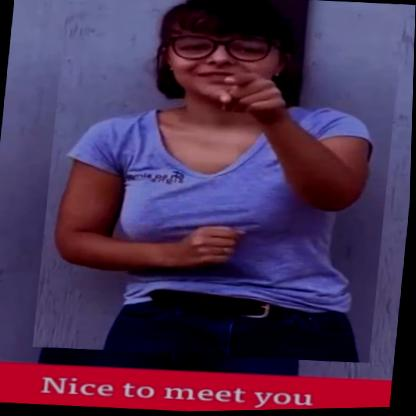NiceToMeetYou: (34, 0, 405, 370)
